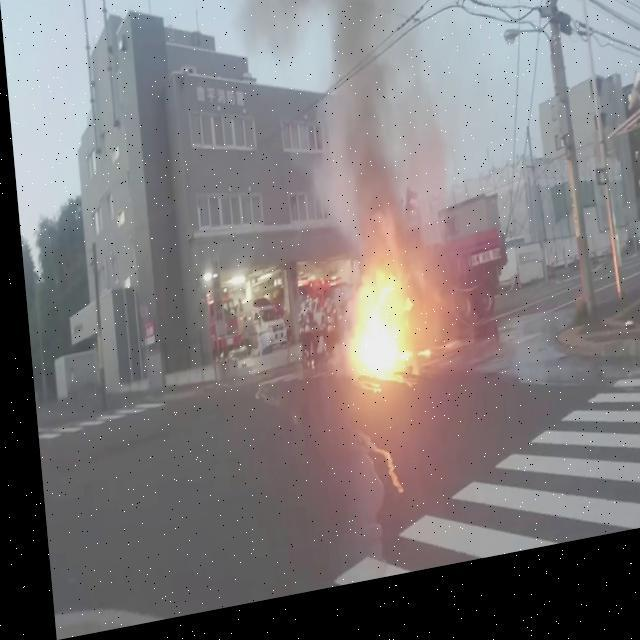Fire: (339, 290, 416, 415)
